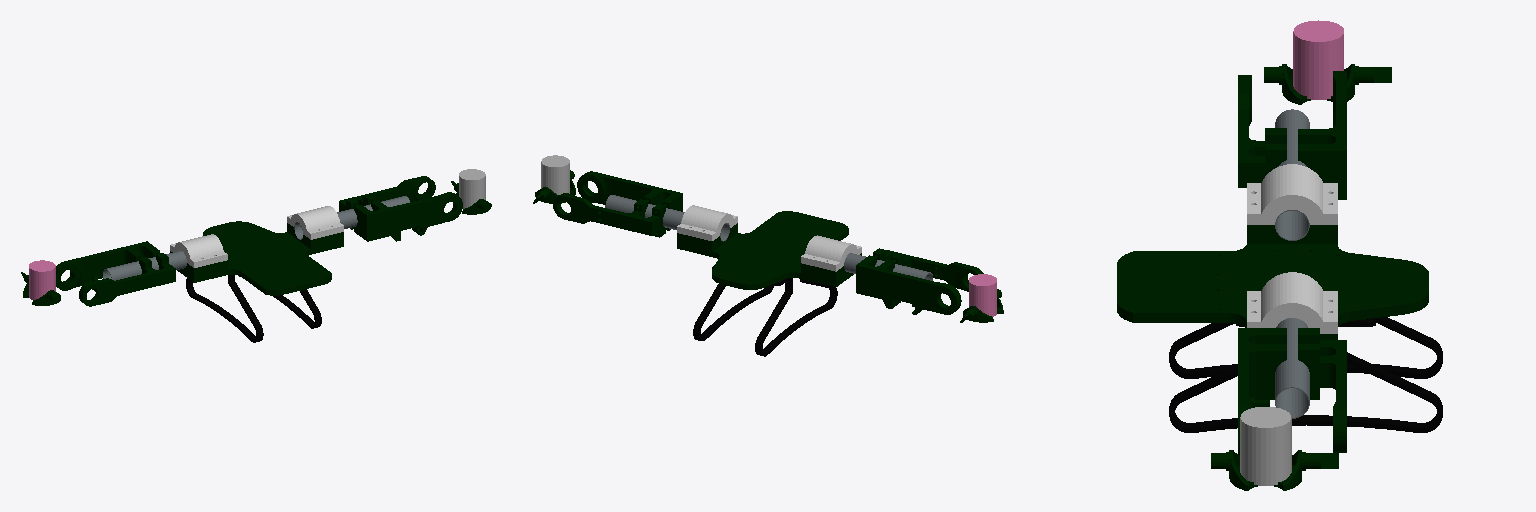
robot.urdf — bicopter:
<?xml version="1.0" ?>
<!-- =================================================================================== -->
<!-- |    This document was autogenerated by xacro from bicopter_description/urdf/bicopter_assembly.xacro | -->
<!-- |    EDITING THIS FILE BY HAND IS NOT RECOMMENDED                                 | -->
<!-- =================================================================================== -->
<robot name="bicopter">
  <material name="blue">
    <color rgba="0 0 0.8 1"/>
  </material>
  <!-- MACRO PARA CRIACAO DO DEFAULT INERTIAL -->
  <!-- MACRO PARA CRIACAO DO TUBE ARM -->
  <!-- MACRO PARA CRIACAO DO ARM -->
  <!-- MACRO PARA CRIACAO DO ARM2 -->
  <!-- MACRO PARA CRIACAO DO LEG -->
  <!-- MACRO PARA CRIACAO DO TILT E SUAS TRANSMISSOES-->
  <!-- MACRO PARA CRIACAO DO ESTATOR -->
  <!--XACRO DO IMU : joint , link , sensor 
  
  <xacro:macro name="imu_sensor" params="xyz rpy parent">
     
    <link name="imu_sensor_link">
        <collision>
            <origin xyz="0 0 0" rpy="0 0 0"/>
            <geometry>
                <box size="0.02 0.02 0.01"/>
            </geometry>
        </collision>
        <visual>
            <geometry>
                <box size="0.02 0.02 0.01"/>
            </geometry>
            <origin xyz="0 0 0" rpy="0 0 0"/>
             <material name="blue"/>
        </visual>
        <inertial>
            <mass value="0.001" />
            <origin xyz="0 0 0" rpy="0 0 0"/>
            <inertia ixx="0.00000015" ixy="0" ixz="0" iyy="0.00000015" iyz="0" izz="0.00000015" />
        </inertial>
    </link>
    
    <joint name="imu_sensor_joint" type="fixed">
        <axis xyz="0 0 1" />
        <origin xyz="${xyz}" rpy="${rpy}"/>
        <parent link="${parent}"/>
        <child link="imu_sensor_link"/>
    </joint>
    
    <gazebo>
        <plugin name='imu_plugin' filename='libgazebo_ros_imu.so'>
              <always_on>1</always_on>
              <topicName>imu_data</topicName>
              <bodyName>imu_sensor_link</bodyName>
              <updateRateHZ>10.0</updateRateHZ>
              <gaussianNoise>0.0</gaussianNoise>
              <xyzOffset>0 0 0</xyzOffset>
              <rpyOffset>0 0 0</rpyOffset>
        </plugin>
    </gazebo>

  </xacro:macro>
  
   -->
  <!-- CRIACAO DOS IMU  
  
   <xacro:imu_sensor xyz="0 0.05 0" rpy="0 0 0" parent="base_link" />
   -->
  <!--MACRO PARA CRIACAO DO ROTOR -->
  <link name="base_link">
  </link>
  <link name="base_link_inertial">
    <visual>
      <origin rpy="0 0 0" xyz="0 0 0"/>
      <geometry>
        <mesh filename="package://bicopter_sim/bicopter_description/meshes/middle.dae"/>
      </geometry>
    </visual>
    <collision>
      <origin rpy="0 0 0" xyz="0 0 0"/>
      <geometry>
        <box size="0.178 0.17 0.015"/>
      </geometry>
    </collision>
    <inertial>
      <mass value="0.1419"/>
      <inertia ixx="1.942e-07" ixy="0" ixz="0" iyy="3.362e-07" iyz="-2.1e-09" izz="5.259e-07"/>
    </inertial>
  </link>
  <joint name="base_joint" type="fixed">
    <parent link="base_link"/>
    <child link="base_link_inertial"/>
  </joint>
  <!-- attach multirotor_base_plugin to the base_link -->
  <gazebo>
    <plugin filename="librotors_gazebo_multirotor_base_plugin.so" name="rosbag">
      <linkName>base_link</linkName>
      <rotorVelocitySlowdownSim>10</rotorVelocitySlowdownSim>
    </plugin>
  </gazebo>
  <!-- CRIACAO DOS MANCAIS E SUAS JUNTAS (JOINTS) -->
  <link name="right_mancal">
    <visual>
      <geometry>
        <mesh filename="package://bicopter_sim/bicopter_description/meshes/mancal_up.dae"/>
      </geometry>
      <origin rpy="0 0 1.57075" xyz="0 0 0"/>
    </visual>
    <collision>
      <geometry>
        <box size="0.04 0.05 0.02"/>
      </geometry>
      <origin rpy="0 0 0" xyz="0 0 0.010"/>
    </collision>
    <inertial>
      <mass value="0.01971"/>
      <inertia ixx="3.0541067e-09" ixy="-1.22135e-11" ixz="2.8446e-12" iyy="3.361632324e-07" iyz="-2.06933e-09" izz="5.258915527e-07"/>
    </inertial>
  </link>
  <joint name="base_to_right_mancal" type="fixed">
    <parent link="base_link"/>
    <child link="right_mancal"/>
    <origin xyz="-0.07 0 0.0142"/>
  </joint>
  <link name="left_mancal">
    <visual>
      <geometry>
        <mesh filename="package://bicopter_sim/bicopter_description/meshes/mancal_up.dae"/>
      </geometry>
      <origin rpy="0 0 1.57075" xyz="0 0 0"/>
    </visual>
    <collision>
      <geometry>
        <box size="0.04 0.05 0.02"/>
      </geometry>
      <origin rpy="0 0 0" xyz="0 0 0.010"/>
    </collision>
    <inertial>
      <mass value="0.01971"/>
      <inertia ixx="3.0541067e-09" ixy="-1.22135e-11" ixz="2.8446e-12" iyy="3.361632324e-07" iyz="-2.06933e-09" izz="5.258915527e-07"/>
    </inertial>
  </link>
  <joint name="base_to_left_mancal" type="fixed">
    <parent link="base_link"/>
    <child link="left_mancal"/>
    <origin xyz="0.07 0 0.0142"/>
  </joint>
  <!-- CRIACAO DOS TUBE ARM E SUAS JUNTAS (JOINTS) -->
  <link name="right_tube_arm">
    <visual>
      <geometry>
        <mesh filename="package://bicopter_sim/bicopter_description/meshes/tube_arm.dae"/>
      </geometry>
      <origin rpy="0 0 0" xyz="0 0 0"/>
    </visual>
    <collision>
      <geometry>
        <cylinder length="0.12" radius="0.01"/>
      </geometry>
      <origin rpy="0 1.57075 0" xyz="0 0 0"/>
    </collision>
    <inertial>
      <mass value="0.03022"/>
      <inertia ixx="1.7960983e-09" ixy="-2.3981262e-09" ixz="-2.08e-14" iyy="2.15995621e-08" iyz="-7e-16" izz="2.17520676e-08"/>
    </inertial>
  </link>
  <joint name="base_to_right_tube_arm" type="fixed">
    <parent link="base_link"/>
    <child link="right_tube_arm"/>
    <origin xyz="-0.115 0 0.0142"/>
  </joint>
  <link name="left_tube_arm">
    <visual>
      <geometry>
        <mesh filename="package://bicopter_sim/bicopter_description/meshes/tube_arm.dae"/>
      </geometry>
      <origin rpy="0 0 0" xyz="0 0 0"/>
    </visual>
    <collision>
      <geometry>
        <cylinder length="0.12" radius="0.01"/>
      </geometry>
      <origin rpy="0 1.57075 0" xyz="0 0 0"/>
    </collision>
    <inertial>
      <mass value="0.03022"/>
      <inertia ixx="1.7960983e-09" ixy="-2.3981262e-09" ixz="-2.08e-14" iyy="2.15995621e-08" iyz="-7e-16" izz="2.17520676e-08"/>
    </inertial>
  </link>
  <joint name="base_to_left_tube_arm" type="fixed">
    <parent link="base_link"/>
    <child link="left_tube_arm"/>
    <origin xyz="0.115 0 0.0142"/>
  </joint>
  <!-- CRIACAO DOS ARM E SUAS JUNTAS (JOINTS) -->
  <link name="right_arm">
    <visual>
      <geometry>
        <mesh filename="package://bicopter_sim/bicopter_description/meshes/arm_max.dae"/>
      </geometry>
      <origin rpy="0.0 0.0 0" xyz="0 0 0"/>
    </visual>
    <collision>
      <geometry>
        <box size="0.12 0.006 0.038"/>
      </geometry>
      <origin rpy="0 0 0" xyz="0.04 0.005 -0.005"/>
    </collision>
    <inertial>
      <mass value="0.03133"/>
      <inertia ixx="4.021067e-09" ixy="2.7460985e-09" ixz="-1.840184e-10" iyy="3.54965027e-08" iyz="-7.66613e-11" izz="3.39598694e-08"/>
    </inertial>
  </link>
  <joint name="base_to_right_arm" type="fixed">
    <parent link="right_tube_arm"/>
    <child link="right_arm"/>
    <origin xyz="-0.1 0.022 0"/>
  </joint>
  <link name="left_arm">
    <visual>
      <geometry>
        <mesh filename="package://bicopter_sim/bicopter_description/meshes/arm_max.dae"/>
      </geometry>
      <origin rpy="3.1415 3.1415 0" xyz="0 0 0"/>
    </visual>
    <collision>
      <geometry>
        <box size="0.12 0.006 0.038"/>
      </geometry>
      <origin rpy="0 0 0" xyz="-0.04 -0.005 -0.005"/>
    </collision>
    <inertial>
      <mass value="0.03133"/>
      <inertia ixx="4.021067e-09" ixy="2.7460985e-09" ixz="-1.840184e-10" iyy="3.54965027e-08" iyz="-7.66613e-11" izz="3.39598694e-08"/>
    </inertial>
  </link>
  <joint name="base_to_left_arm" type="fixed">
    <parent link="left_tube_arm"/>
    <child link="left_arm"/>
    <origin xyz="0.1 -0.022 0"/>
  </joint>
  <!-- CRIACAO DOS ARM2 E SUAS JUNTAS (JOINTS) -->
  <link name="right_arm2">
    <visual>
      <geometry>
        <mesh filename="package://bicopter_sim/bicopter_description/meshes/arm_min.dae"/>
      </geometry>
      <origin rpy="0.0 0.0 0" xyz="0 0 0"/>
    </visual>
    <collision>
      <geometry>
        <box size="0.11 0.007 0.035"/>
      </geometry>
      <origin rpy="0 0 0" xyz="0.045 0.005 -0.001"/>
    </collision>
    <inertial>
      <mass value="0.01847"/>
      <inertia ixx="3.201813e-10" ixy="0.0" ixz="0.0" iyy="5.4531342e-09" iyz="0.0" izz="5.4531342e-09"/>
    </inertial>
  </link>
  <joint name="base_to_right_arm2" type="fixed">
    <parent link="right_tube_arm"/>
    <child link="right_arm2"/>
    <origin xyz="-0.1 -0.03 0"/>
  </joint>
  <link name="left_arm2">
    <visual>
      <geometry>
        <mesh filename="package://bicopter_sim/bicopter_description/meshes/arm_min.dae"/>
      </geometry>
      <origin rpy="3.1415 3.1415 0" xyz="0 0 0"/>
    </visual>
    <collision>
      <geometry>
        <box size="0.11 0.007 0.035"/>
      </geometry>
      <origin rpy="0 0 0" xyz="-0.045 -0.005 -0.001"/>
    </collision>
    <inertial>
      <mass value="0.01847"/>
      <inertia ixx="3.201813e-10" ixy="0.0" ixz="0.0" iyy="5.4531342e-09" iyz="0.0" izz="5.4531342e-09"/>
    </inertial>
  </link>
  <joint name="base_to_left_arm2" type="fixed">
    <parent link="left_tube_arm"/>
    <child link="left_arm2"/>
    <origin xyz="0.1 0.03 0"/>
  </joint>
  <!-- CRIACAO DOS LEG E SUAS JUNTAS (JOINTS) -->
  <link name="right_leg">
    <visual>
      <geometry>
        <mesh filename="package://bicopter_sim/bicopter_description/meshes/land_leg.dae"/>
      </geometry>
      <origin rpy="0 0 0" xyz="0 0 0"/>
    </visual>
    <collision>
      <geometry>
        <box size="0.007 0.155 0.07"/>
      </geometry>
      <origin rpy="0 0 0" xyz="0 0 -0.035"/>
    </collision>
    <inertial>
      <mass value="0.00823"/>
      <inertia ixx="1.91376434e-08" ixy="7e-16" ixz="-2e-16" iyy="4.2566975e-09" iyz="-1e-15" izz="1.49469467e-08"/>
    </inertial>
  </link>
  <joint name="base_to_right_leg" type="fixed">
    <parent link="base_link"/>
    <child link="right_leg"/>
    <origin xyz="-0.035 0.0075 -0.0025"/>
  </joint>
  <gazebo reference="right_leg">
    <mu1 value="200.0"/>
    <mu2 value="100.0"/>
    <kp value="10000000.0"/>
    <kd value="1.0"/>
  </gazebo>
  <link name="left_leg">
    <visual>
      <geometry>
        <mesh filename="package://bicopter_sim/bicopter_description/meshes/land_leg.dae"/>
      </geometry>
      <origin rpy="0 0 0" xyz="0 0 0"/>
    </visual>
    <collision>
      <geometry>
        <box size="0.007 0.155 0.07"/>
      </geometry>
      <origin rpy="0 0 0" xyz="0 0 -0.035"/>
    </collision>
    <inertial>
      <mass value="0.00823"/>
      <inertia ixx="1.91376434e-08" ixy="7e-16" ixz="-2e-16" iyy="4.2566975e-09" iyz="-1e-15" izz="1.49469467e-08"/>
    </inertial>
  </link>
  <joint name="base_to_left_leg" type="fixed">
    <parent link="base_link"/>
    <child link="left_leg"/>
    <origin xyz="0.035 0.0075 -0.0025"/>
  </joint>
  <gazebo reference="left_leg">
    <mu1 value="200.0"/>
    <mu2 value="100.0"/>
    <kp value="10000000.0"/>
    <kd value="1.0"/>
  </gazebo>
  <!-- CRIACAO DOS TILT E SUAS JUNTAS (JOINTS) -->
  <link name="right_tilt">
    <visual>
      <geometry>
        <mesh filename="package://bicopter_sim/bicopter_description/meshes/motor_base.dae"/>
      </geometry>
      <origin rpy="0 0 0" xyz="0 0 0"/>
    </visual>
    <collision>
      <geometry>
        <cylinder length="0.005" radius="0.02"/>
      </geometry>
      <origin rpy="0 0 0" xyz="0 0 -0.01"/>
    </collision>
    <inertial>
      <mass value="0.00526"/>
      <inertia ixx="1.8322357e-09" ixy="2.628e-13" ixz="4.879e-13" iyy="3.454043e-10" iyz="-2.90679e-11" izz="1.9750971e-09"/>
    </inertial>
  </link>
  <joint name="arm_to_right_tilt" type="revolute">
    <axis xyz="0 -1 0"/>
    <limit effort="1000.0" lower="0.0" upper="1.57075" velocity="0.5"/>
    <origin rpy="0 0 0" xyz="0 -0.02 0"/>
    <parent link="right_arm"/>
    <child link="right_tilt"/>
    <origin xyz="-0.035 -0.0075 -0.0025"/>
  </joint>
  <!--
    <joint name="arm_to_${prefix}_tilt" type="fixed">
      <origin rpy="0 0 0" xyz="0 ${reflect*0.02} 0"/>
      <parent link="${prefix}_arm"/>
      <child link="${prefix}_tilt"/>
      <origin xyz="${reflect*0.035} ${reflect*0.0075} -0.0025"/>
    </joint>
    -->
  <!-- This block connects the tilt_rotor joint to an actuator (motor), which informs both
  simulation and visualization of the robot -->
  <transmission name="right_tilt_trans" type="SimpleTransmission">
    <type>transmission_interface/SimpleTransmission</type>
    <actuator name="right_tilt_motor">
      <mechanicalReduction>1</mechanicalReduction>
    </actuator>
    <joint name="arm_to_right_tilt">
      <hardwareInterface>hardware_interface/PositionJointInterface</hardwareInterface>
    </joint>
  </transmission>
  <link name="left_tilt">
    <visual>
      <geometry>
        <mesh filename="package://bicopter_sim/bicopter_description/meshes/motor_base.dae"/>
      </geometry>
      <origin rpy="0 0 0" xyz="0 0 0"/>
    </visual>
    <collision>
      <geometry>
        <cylinder length="0.005" radius="0.02"/>
      </geometry>
      <origin rpy="0 0 0" xyz="0 0 -0.01"/>
    </collision>
    <inertial>
      <mass value="0.00526"/>
      <inertia ixx="1.8322357e-09" ixy="2.628e-13" ixz="4.879e-13" iyy="3.454043e-10" iyz="-2.90679e-11" izz="1.9750971e-09"/>
    </inertial>
  </link>
  <joint name="arm_to_left_tilt" type="revolute">
    <axis xyz="0 1 0"/>
    <limit effort="1000.0" lower="0.0" upper="1.57075" velocity="0.5"/>
    <origin rpy="0 0 0" xyz="0 0.02 0"/>
    <parent link="left_arm"/>
    <child link="left_tilt"/>
    <origin xyz="0.035 0.0075 -0.0025"/>
  </joint>
  <!--
    <joint name="arm_to_${prefix}_tilt" type="fixed">
      <origin rpy="0 0 0" xyz="0 ${reflect*0.02} 0"/>
      <parent link="${prefix}_arm"/>
      <child link="${prefix}_tilt"/>
      <origin xyz="${reflect*0.035} ${reflect*0.0075} -0.0025"/>
    </joint>
    -->
  <!-- This block connects the tilt_rotor joint to an actuator (motor), which informs both
  simulation and visualization of the robot -->
  <transmission name="left_tilt_trans" type="SimpleTransmission">
    <type>transmission_interface/SimpleTransmission</type>
    <actuator name="left_tilt_motor">
      <mechanicalReduction>1</mechanicalReduction>
    </actuator>
    <joint name="arm_to_left_tilt">
      <hardwareInterface>hardware_interface/PositionJointInterface</hardwareInterface>
    </joint>
  </transmission>
  <!-- CRIACAO DOS STATOR E SUAS JUNTAS (JOINTS) -->
  <link name="right_0_stator">
    <visual>
      <geometry>
        <cylinder length="0.035" radius="0.014"/>
      </geometry>
      <origin rpy="0 0 0" xyz="0 0 0.009"/>
    </visual>
    <collision>
      <geometry>
        <cylinder length="0.035" radius="0.014"/>
      </geometry>
      <origin rpy="0 0 0" xyz="0 0 0.011"/>
    </collision>
    <inertial>
      <mass value="0.053"/>
      <inertia ixx="8.007416666666667e-06" ixy="0.0" ixz="0.0" iyy="8.007416666666667e-06" iyz="0.0" izz="5.194000000000001e-06"/>
    </inertial>
  </link>
  <joint name="tilt_to_right_0_stator" type="revolute">
    <axis xyz="0 -1 0"/>
    <limit effort="1000.0" lower="0.0" upper="0.001" velocity="0.5"/>
    <parent link="right_tilt"/>
    <child link="right_0_stator"/>
    <origin xyz="0 0 0"/>
  </joint>
  <transmission name="right_estator_trans" type="SimpleTransmission">
    <type>transmission_interface/SimpleTransmission</type>
    <actuator name="right_estator_motor">
      <mechanicalReduction>1</mechanicalReduction>
    </actuator>
    <joint name="tilt_to_right_estator">
      <hardwareInterface>hardware_interface/PositionJointInterface</hardwareInterface>
    </joint>
  </transmission>
  <!--
    <joint name="tilt_to_${prefix}_${number}_stator" type="fixed">
      <parent link="${parent}"/>
      <child link="${prefix}_${number}_stator"/>
      <origin xyz="0 0 0.0${number}"/>
    </joint>
    -->
  <gazebo reference="right_0_stator">
    <material>Gazebo/DarkGrey</material>
  </gazebo>
  <link name="left_0_stator">
    <visual>
      <geometry>
        <cylinder length="0.035" radius="0.014"/>
      </geometry>
      <origin rpy="0 0 0" xyz="0 0 0.009"/>
    </visual>
    <collision>
      <geometry>
        <cylinder length="0.035" radius="0.014"/>
      </geometry>
      <origin rpy="0 0 0" xyz="0 0 0.011"/>
    </collision>
    <inertial>
      <mass value="0.053"/>
      <inertia ixx="8.007416666666667e-06" ixy="0.0" ixz="0.0" iyy="8.007416666666667e-06" iyz="0.0" izz="5.194000000000001e-06"/>
    </inertial>
  </link>
  <joint name="tilt_to_left_0_stator" type="revolute">
    <axis xyz="0 1 0"/>
    <limit effort="1000.0" lower="0.0" upper="0.001" velocity="0.5"/>
    <parent link="left_tilt"/>
    <child link="left_0_stator"/>
    <origin xyz="0 0 0"/>
  </joint>
  <transmission name="left_estator_trans" type="SimpleTransmission">
    <type>transmission_interface/SimpleTransmission</type>
    <actuator name="left_estator_motor">
      <mechanicalReduction>1</mechanicalReduction>
    </actuator>
    <joint name="tilt_to_left_estator">
      <hardwareInterface>hardware_interface/PositionJointInterface</hardwareInterface>
    </joint>
  </transmission>
  <!--
    <joint name="tilt_to_${prefix}_${number}_stator" type="fixed">
      <parent link="${parent}"/>
      <child link="${prefix}_${number}_stator"/>
      <origin xyz="0 0 0.0${number}"/>
    </joint>
    -->
  <gazebo reference="left_0_stator">
    <material>Gazebo/DarkGrey</material>
  </gazebo>
  <!--
    <joint name="rotor_${motor_number}_joint" type="fixed">
      <xacro:insert_block name="origin" />
      <parent link="${parent}" />
      <child link="rotor_${motor_number}" />
    </joint>
    -->
  <!-- TODO(ff): not currently set because it's not yet supported -->
  <!-- <gazebo reference="rotor_${motor_number}_joint"> <axis> <xyz>0 0 1</xyz>
      <limit> <velocity> ${max_rot_velocity} </velocity> </limit> </axis> </gazebo> -->
  <link name="right_rotor">
    <inertial>
      <mass value="0.005"/>
      <!-- [kg] -->
      <inertia ixx="9.75e-07" ixy="0.0" ixz="0.0" iyy="0.00032670416666666667" iyz="0.0" izz="0.0003276041666666667"/>
    </inertial>
    <visual>
      <geometry>
        <mesh filename="package://bicopter_sim/bicopter_description/meshes/propeller_ccw.dae" scale=".12 .12 .12"/>
      </geometry>
    </visual>
    <collision>
      <geometry>
        <cylinder length="0.005" radius="0.14"/>
        <!-- [m] -->
      </geometry>
    </collision>
  </link>
  <!-- Rotor joint and link  -->
  <joint name="right_rotor_joint" type="continuous">
    <origin rpy="0 0 0" xyz="0 0 0.033"/>
    <axis xyz="0 0 1"/>
    <limit effort="1000" velocity="1.0"/>
    <parent link="right_0_stator"/>
    <child link="right_rotor"/>
  </joint>
  <transmission name="right_motor_trans" type="SimpleTransmission">
    <type>transmission_interface/SimpleTransmission</type>
    <actuator name="right_motor">
      <mechanicalReduction>1</mechanicalReduction>
    </actuator>
    <joint name="right_rotor_joint">
      <hardwareInterface>hardware_interface/PositionJointInterface</hardwareInterface>
    </joint>
  </transmission>
  <gazebo>
    <plugin filename="librotors_gazebo_motor_model.so" name="right_motor_model">
      <jointName>right_rotor_joint</jointName>
      <linkName>right_rotor</linkName>
      <turningDirection>ccw</turningDirection>
      <timeConstantUp>0.15</timeConstantUp>
      <timeConstantDown>0.15</timeConstantDown>
      <maxRotVelocity>770</maxRotVelocity>
      <motorConstant>2.39e-05</motorConstant>
      <momentConstant>0.016</momentConstant>
      <commandSubTopic>gazebo/command/motor_speed</commandSubTopic>
      <motorNumber>0</motorNumber>
      <rotorDragCoefficient>1.3858e-06</rotorDragCoefficient>
      <rollingMomentCoefficient>1e-06</rollingMomentCoefficient>
      <motorSpeedPubTopic>motor_speed/right</motorSpeedPubTopic>
      <rotorVelocitySlowdownSim>10</rotorVelocitySlowdownSim>
    </plugin>
  </gazebo>
  <gazebo reference="right_rotor">
    <material>Gazebo/Blue</material>
  </gazebo>
  <!--
    <joint name="rotor_${motor_number}_joint" type="fixed">
      <xacro:insert_block name="origin" />
      <parent link="${parent}" />
      <child link="rotor_${motor_number}" />
    </joint>
    -->
  <!-- TODO(ff): not currently set because it's not yet supported -->
  <!-- <gazebo reference="rotor_${motor_number}_joint"> <axis> <xyz>0 0 1</xyz>
      <limit> <velocity> ${max_rot_velocity} </velocity> </limit> </axis> </gazebo> -->
  <link name="left_rotor">
    <inertial>
      <mass value="0.005"/>
      <!-- [kg] -->
      <inertia ixx="9.75e-07" ixy="0.0" ixz="0.0" iyy="0.00032670416666666667" iyz="0.0" izz="0.0003276041666666667"/>
    </inertial>
    <visual>
      <geometry>
        <mesh filename="package://bicopter_sim/bicopter_description/meshes/propeller_cw.dae" scale=".12 .12 .12"/>
      </geometry>
    </visual>
    <collision>
      <geometry>
        <cylinder length="0.005" radius="0.14"/>
        <!-- [m] -->
      </geometry>
    </collision>
  </link>
  <!-- Rotor joint and link  -->
  <joint name="left_rotor_joint" type="continuous">
    <origin rpy="0 0 0" xyz="0 0 0.033"/>
    <axis xyz="0 0 1"/>
    <limit effort="1000" velocity="1.0"/>
    <parent link="left_0_stator"/>
    <child link="left_rotor"/>
  </joint>
  <transmission name="left_motor_trans" type="SimpleTransmission">
    <type>transmission_interface/SimpleTransmission</type>
    <actuator name="left_motor">
      <mechanicalReduction>1</mechanicalReduction>
    </actuator>
    <joint name="left_rotor_joint">
      <hardwareInterface>hardware_interface/PositionJointInterface</hardwareInterface>
    </joint>
  </transmission>
  <gazebo>
    <plugin filename="librotors_gazebo_motor_model.so" name="left_motor_model">
      <jointName>left_rotor_joint</jointName>
      <linkName>left_rotor</linkName>
      <turningDirection>cw</turningDirection>
      <timeConstantUp>0.15</timeConstantUp>
      <timeConstantDown>0.15</timeConstantDown>
      <maxRotVelocity>770</maxRotVelocity>
      <motorConstant>2.39e-05</motorConstant>
      <momentConstant>0.016</momentConstant>
      <commandSubTopic>gazebo/command/motor_speed</commandSubTopic>
      <motorNumber>0</motorNumber>
      <rotorDragCoefficient>1.3858e-06</rotorDragCoefficient>
      <rollingMomentCoefficient>1e-06</rollingMomentCoefficient>
      <motorSpeedPubTopic>motor_speed/left</motorSpeedPubTopic>
      <rotorVelocitySlowdownSim>10</rotorVelocitySlowdownSim>
    </plugin>
  </gazebo>
  <gazebo reference="left_rotor">
    <material>Gazebo/Blue</material>
  </gazebo>
  <!-- CONECTANDO ROS TO GAZEBO -->
  <gazebo>
    <plugin filename="libgazebo_ros_control.so" name="gazebo_ros_control">
	   </plugin>
  </gazebo>
</robot>

--- Render facts (derived) ---
3 views of the same robot in one strip: view 1: azimuth 30°, elevation 25°; view 2: azimuth 150°, elevation 25°; view 3: azimuth 270°, elevation 25° (orthographic).
Model bicopter with 18 links and 17 joints (4 revolute, 2 continuous, 11 fixed), rooted at base_link, posed every joint at zero.
Visible links, largest first — view 1: base_link_inertial, left_arm, right_arm, right_arm2, left_arm2, left_mancal, right_mancal, right_leg, right_0_stator, left_0_stator, right_tube_arm, left_tube_arm (+1 smaller); view 2: base_link_inertial, right_arm, left_arm2, left_arm, right_arm2, right_leg, left_mancal, right_mancal, left_leg, right_0_stator, left_0_stator, left_tube_arm (+1 smaller); view 3: base_link_inertial, right_mancal, left_leg, left_mancal, left_0_stator, right_0_stator, left_arm, left_arm2, right_arm, right_arm2, right_leg, left_tube_arm (+3 smaller).
Boxes of the visible links, box(x1,y1,x2,y2) form: base_link_inertial: box(170, 221, 343, 295); left_arm: box(354, 192, 462, 241); right_arm: box(56, 241, 159, 291); right_arm2: box(79, 253, 175, 306); left_arm2: box(339, 176, 435, 229); left_mancal: box(287, 206, 343, 239); right_mancal: box(170, 234, 227, 267); right_leg: box(186, 275, 263, 342); right_0_stator: box(29, 260, 55, 299); left_0_stator: box(459, 169, 485, 208); right_tube_arm: box(103, 251, 186, 280); left_tube_arm: box(294, 196, 409, 239); base_link_inertial: box(677, 211, 861, 289); right_arm: box(856, 255, 961, 314); left_arm2: box(553, 193, 665, 237); left_arm: box(577, 171, 682, 230); right_arm2: box(873, 248, 983, 291); right_leg: box(755, 278, 837, 356); left_mancal: box(677, 205, 737, 240); right_mancal: box(801, 235, 861, 271); left_leg: box(693, 265, 774, 340); right_0_stator: box(969, 274, 996, 316); left_0_stator: box(541, 155, 569, 194); left_tube_arm: box(605, 195, 729, 241); base_link_inertial: box(1117, 225, 1428, 339); right_mancal: box(1247, 164, 1337, 224); left_leg: box(1169, 318, 1442, 432); left_mancal: box(1247, 272, 1337, 333); left_0_stator: box(1240, 407, 1291, 485); right_0_stator: box(1293, 20, 1343, 99); left_arm: box(1238, 328, 1286, 454); left_arm2: box(1298, 328, 1346, 452); right_arm: box(1298, 71, 1346, 199); right_arm2: box(1238, 75, 1286, 187); right_leg: box(1169, 317, 1442, 378); left_tube_arm: box(1275, 318, 1309, 418).
Bounding box of the posed robot: 0.535 × 0.1784 × 0.1083 m (x, y, z).
13 mesh visuals loaded from 9 distinct referenced files (7 Collada DAE); not drawn: 2 (reference not matched to a file when rendering).
